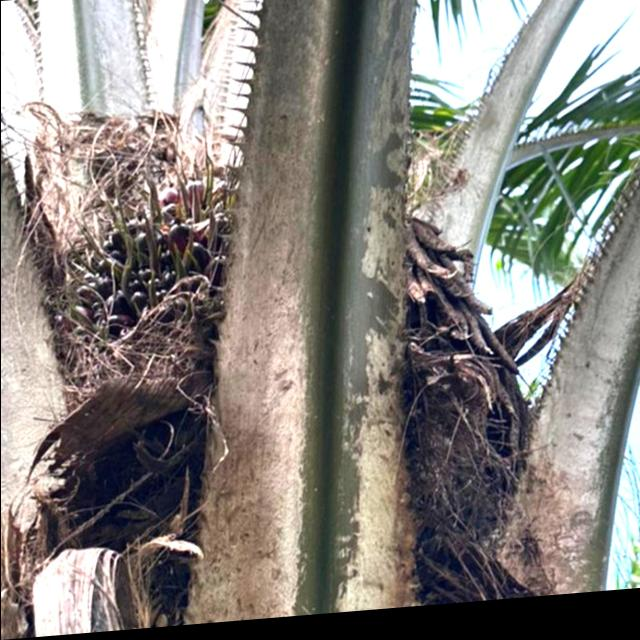ripe: (66, 163, 262, 408)
